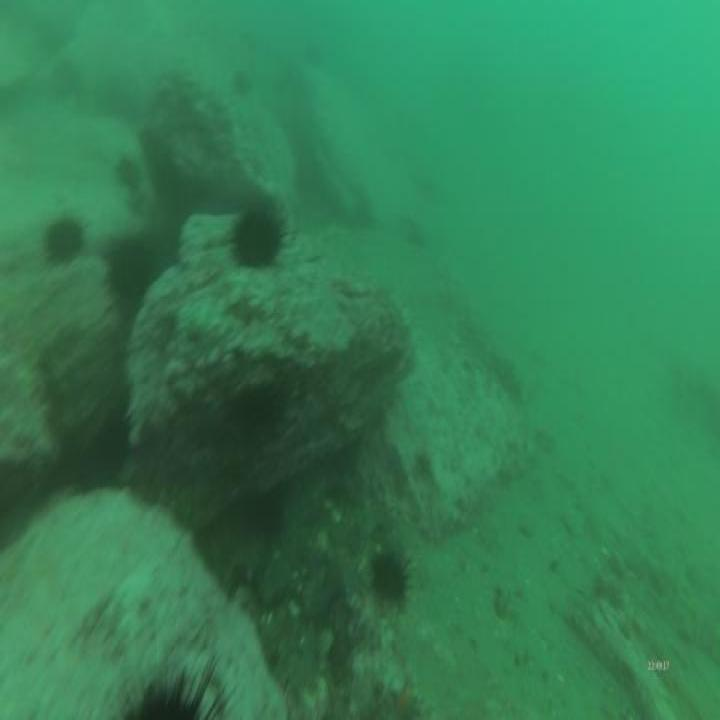echinus: (116, 654, 237, 720), (226, 197, 290, 272), (101, 228, 156, 310), (368, 540, 415, 610), (41, 208, 89, 270), (239, 375, 280, 439), (50, 55, 81, 103), (111, 146, 141, 194), (228, 62, 255, 100)
holothurian: (0, 304, 66, 476)
starfish: (387, 668, 425, 720)
